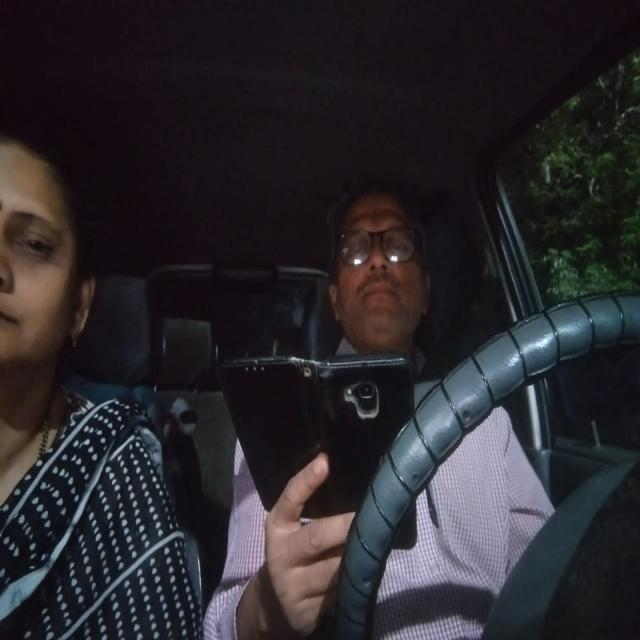mobile: (220, 340, 425, 562)
person: (0, 128, 109, 404), (318, 182, 433, 354)
